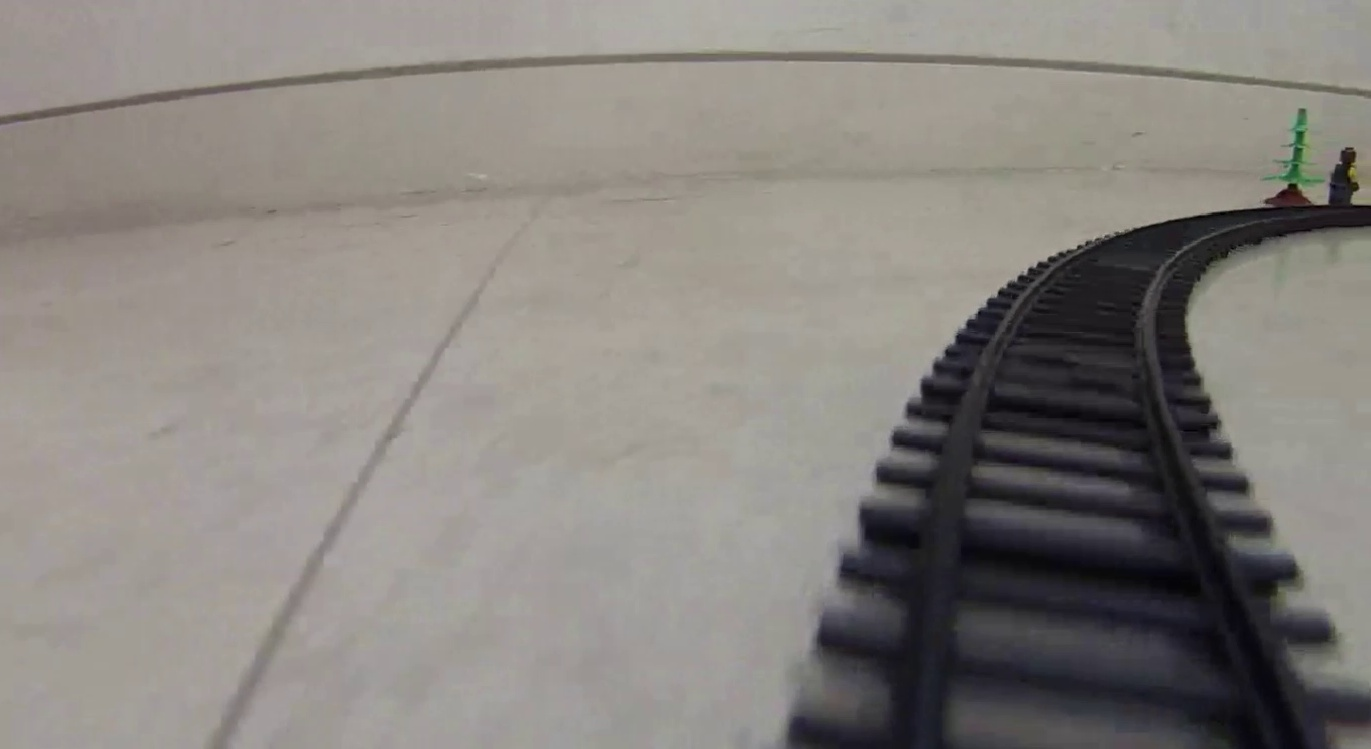people: (1330, 145, 1361, 202)
tree: (1260, 103, 1324, 201)
